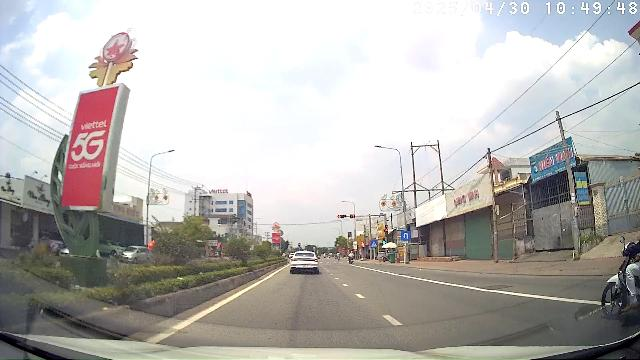423a-duong-nguoi-di-bo-sang-ngang-1: (370, 240, 378, 248)
